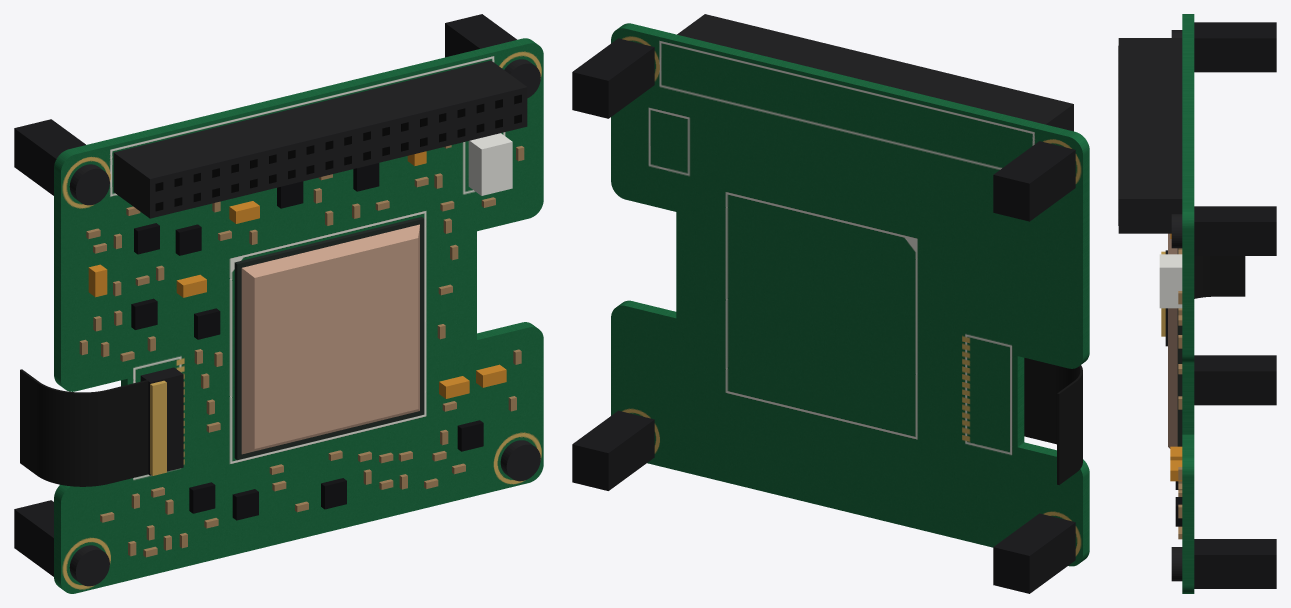
File: sixfab_ai_hat.obj
3 views of the same model, side by side, from view 1: azimuth 30°, elevation 25°; view 2: azimuth 150°, elevation 25°; view 3: azimuth 270°, elevation 25° (orthographic). The views are drawn at different scales.
Visible parts, largest first — view 1: pcb, chip_lid, header, ribbon, smd_caps, standoffs, smd_ics, chip_substrate, screws, smd_tantalum, header_holes, jst (+2 smaller); view 2: pcb, standoffs, header, ribbon; view 3: standoffs, header, pcb, ribbon, chip_lid, jst, screws, smd_caps, chip_substrate, smd_tantalum.
Boxes of the visible parts, bbox=[...] form: pcb: bbox=[54, 38, 543, 593]; chip_lid: bbox=[241, 224, 419, 454]; header: bbox=[113, 60, 527, 218]; ribbon: bbox=[20, 369, 149, 486]; smd_caps: bbox=[79, 145, 524, 557]; standoffs: bbox=[14, 14, 516, 576]; smd_ics: bbox=[131, 163, 483, 520]; chip_substrate: bbox=[234, 217, 424, 460]; screws: bbox=[69, 59, 540, 586]; smd_tantalum: bbox=[88, 151, 506, 398]; header_holes: bbox=[155, 94, 521, 211]; jst: bbox=[468, 133, 512, 195]; pcb: bbox=[611, 23, 1089, 566]; standoffs: bbox=[572, 38, 1075, 593]; header: bbox=[677, 14, 1073, 131]; ribbon: bbox=[1024, 358, 1082, 484]; standoffs: bbox=[1194, 22, 1276, 588]; header: bbox=[1118, 38, 1182, 233]; pcb: bbox=[1182, 14, 1194, 593]; ribbon: bbox=[1194, 256, 1245, 298]; chip_lid: bbox=[1168, 233, 1177, 448]; jst: bbox=[1159, 254, 1182, 308]; screws: bbox=[1171, 30, 1182, 581]; smd_caps: bbox=[1178, 248, 1182, 539]; chip_substrate: bbox=[1177, 248, 1182, 446]; smd_tantalum: bbox=[1170, 233, 1182, 481].
Bounding box in the file's own units: 65.65 × 56.5 × 21.15.
14 materials, 1 textured.
